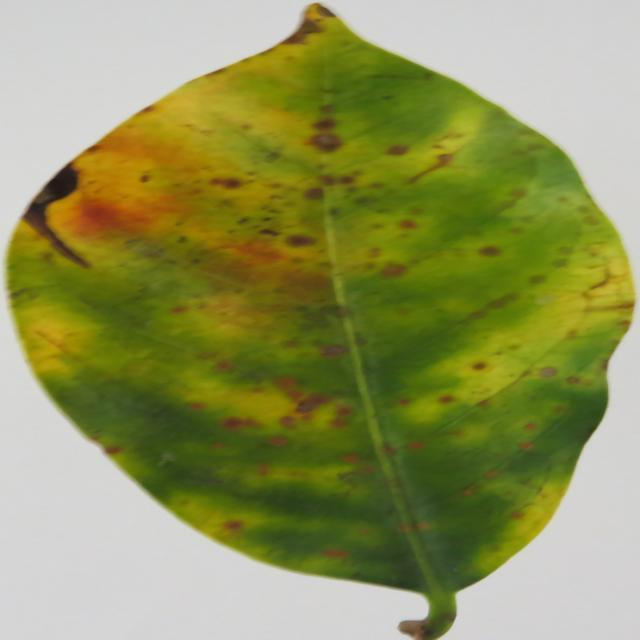DeficienciaNutricional-Fosforo: (10, 5, 634, 640)
